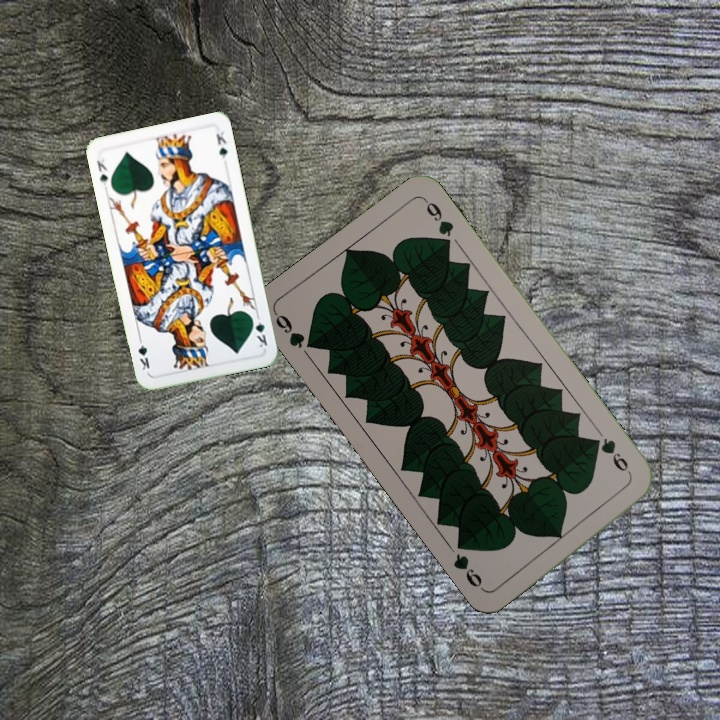G9: (588, 433, 635, 480), (270, 309, 320, 352)
GK: (248, 312, 270, 350), (93, 154, 111, 188)
